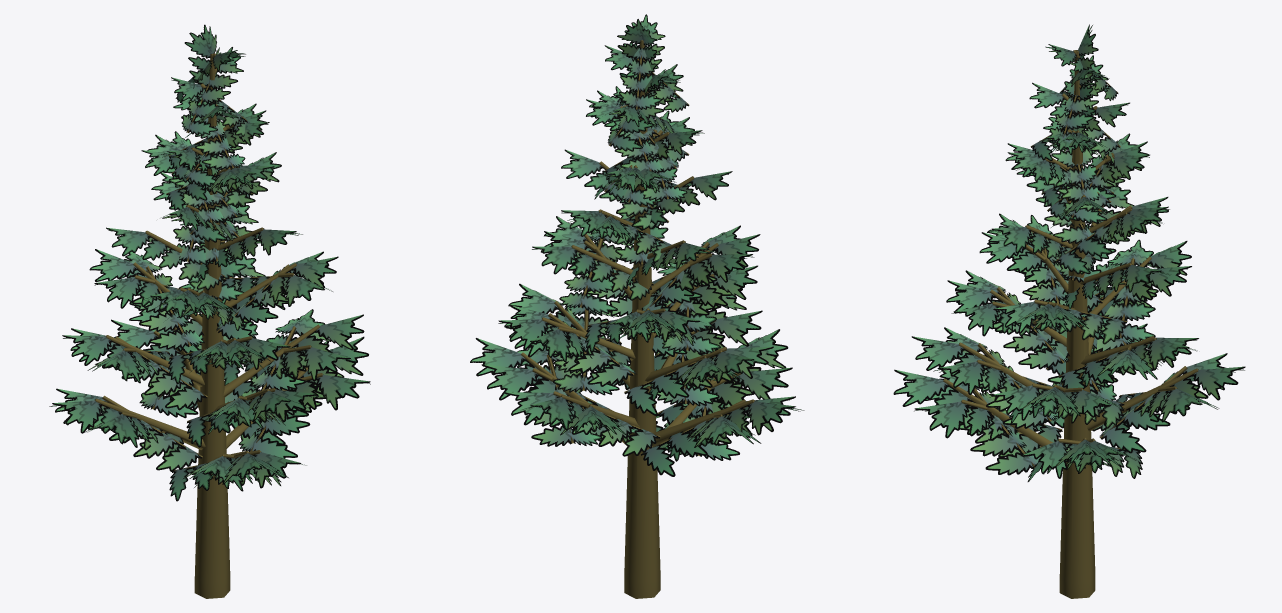
The model's file is pine-fluffy.gltf.
3 renders of one model, left to right at view 1: azimuth 30°, elevation 25°; view 2: azimuth 150°, elevation 25°; view 3: azimuth 270°, elevation 25°, orthographic. The views are drawn at different scales.
Visible parts, largest first — view 1: leaves, bark; view 2: leaves, bark; view 3: leaves, bark.
Part boxes in pixels (x1,y1,x2,y2): leaves: (49, 24, 370, 501); bark: (94, 53, 323, 598); leaves: (470, 14, 804, 476); bark: (521, 40, 755, 598); leaves: (893, 24, 1245, 481); bark: (943, 50, 1198, 598).
Size of the model in its own units: 1.77 by 2.77 by 1.76.
Materials: 2 (1 with a texture image).
